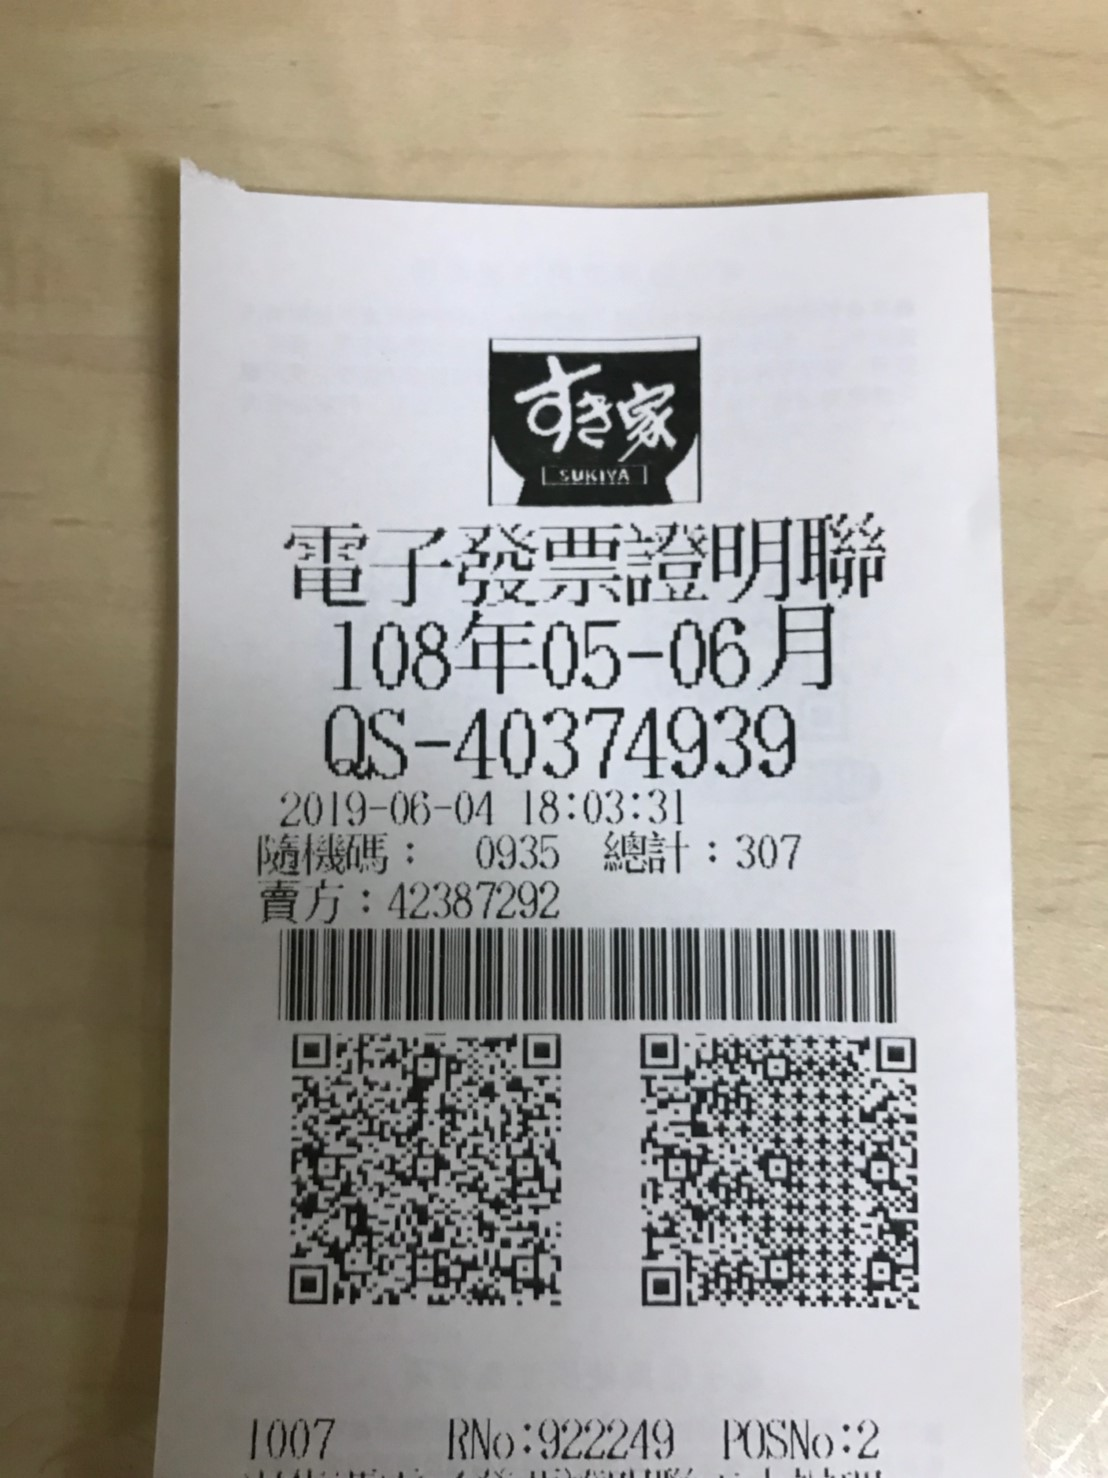Date_New: (329, 603, 841, 696)
Number_New: (452, 701, 800, 788)
